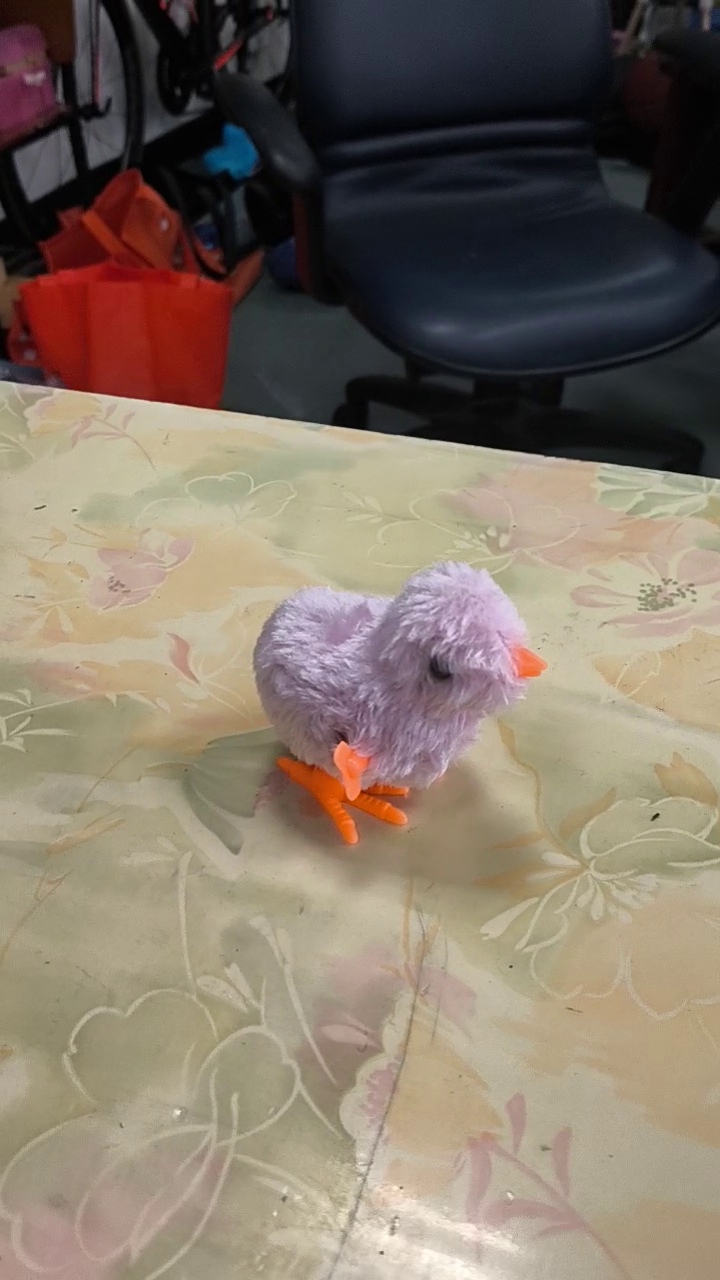pink chicken: (245, 549, 555, 856)
